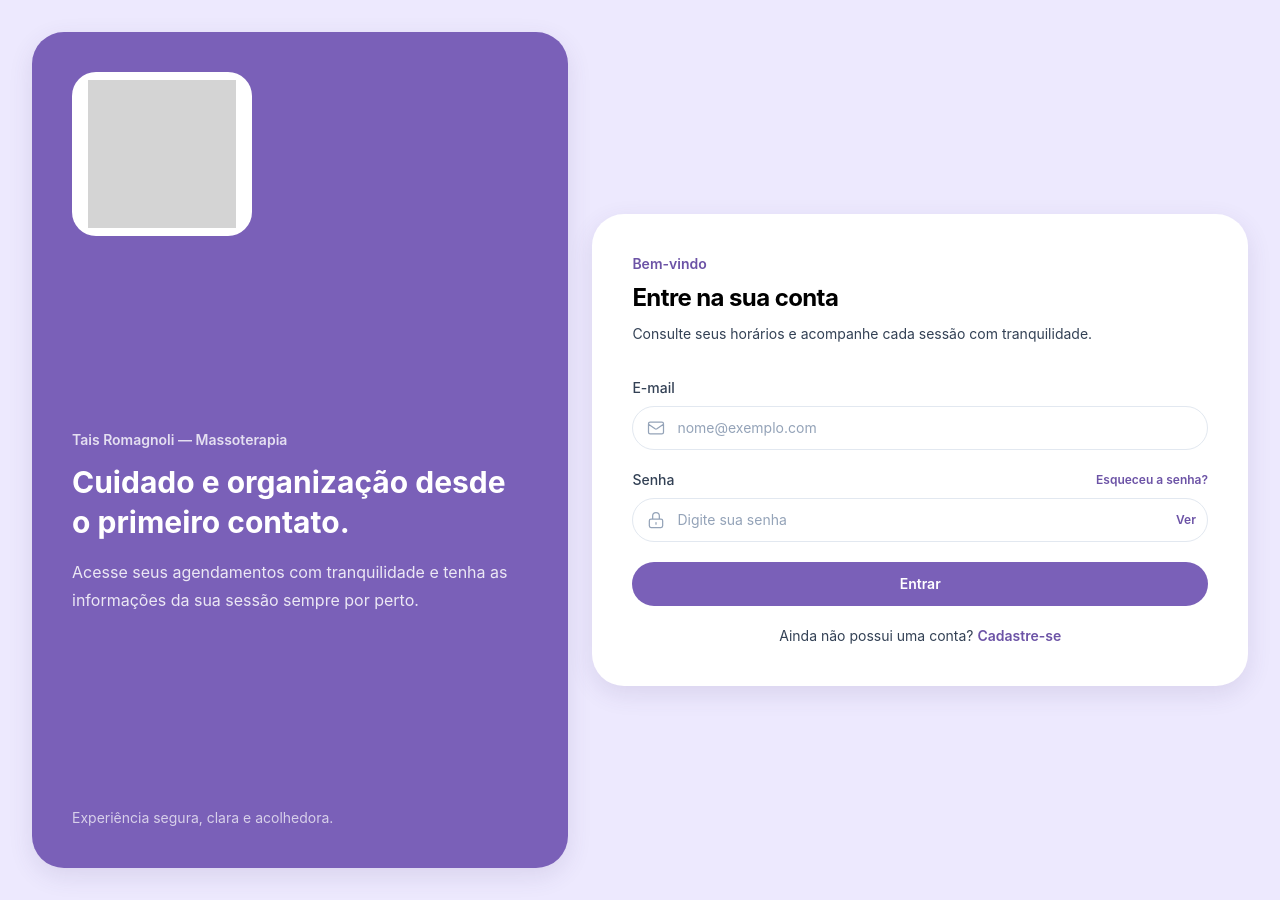
Fluxos de Autenticação, Erros e Sessões Expiradas › Navegação entre fluxos de autenticação › permite alternar entre Login e Cadastro através dos links da tela
The image size is (1280, 900).
Expected: the heading "Entre na sua conta" is shown, [632,283,838,312]
# Clica para ir para o cadastro
Click the link "Cadastre-se": (1019, 636) [977,627,1061,644]
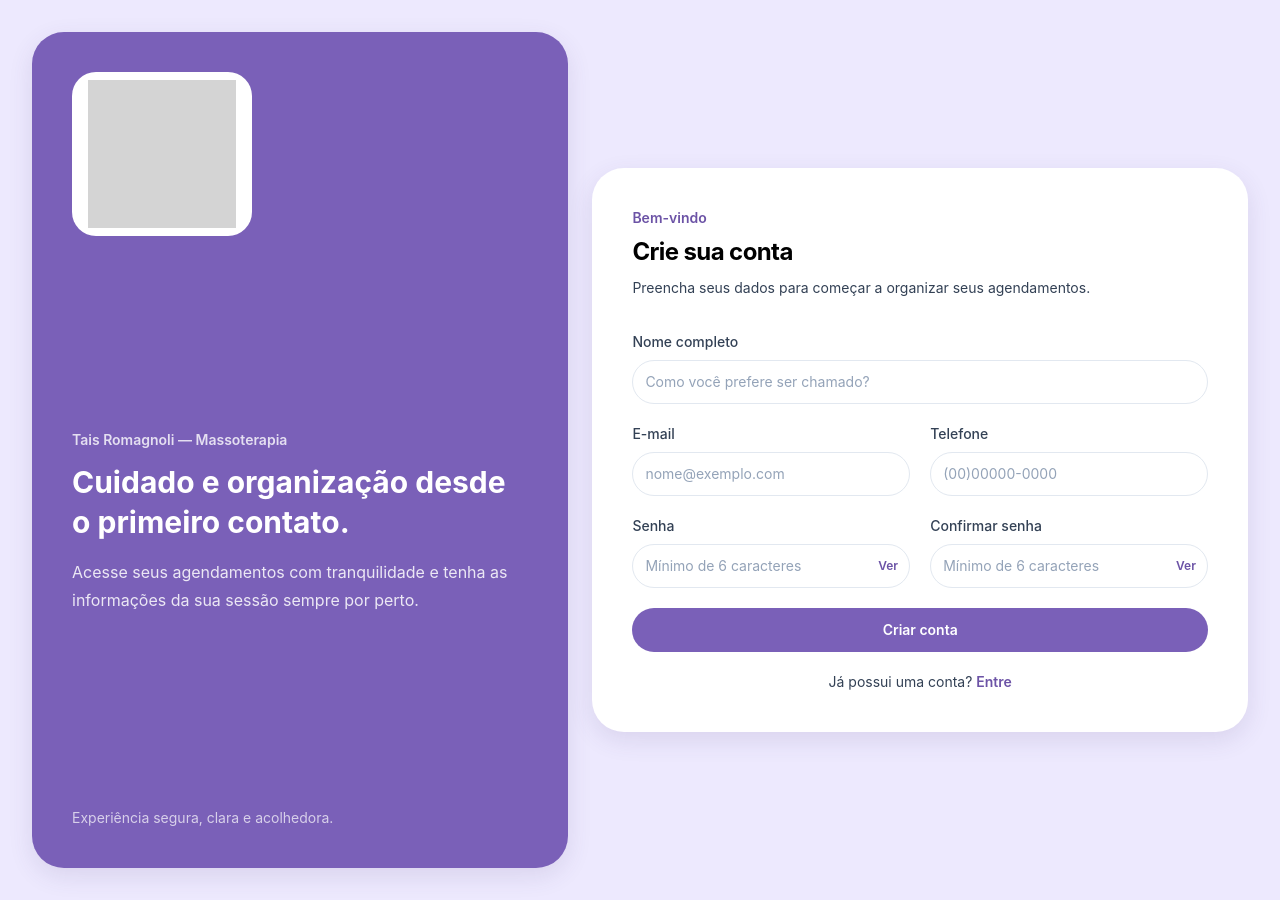
Now the heading "Crie sua conta" is shown, box [632,237,793,266]
# Clica para voltar ao login
Click the link "Entre": (994, 682) [976,673,1012,690]
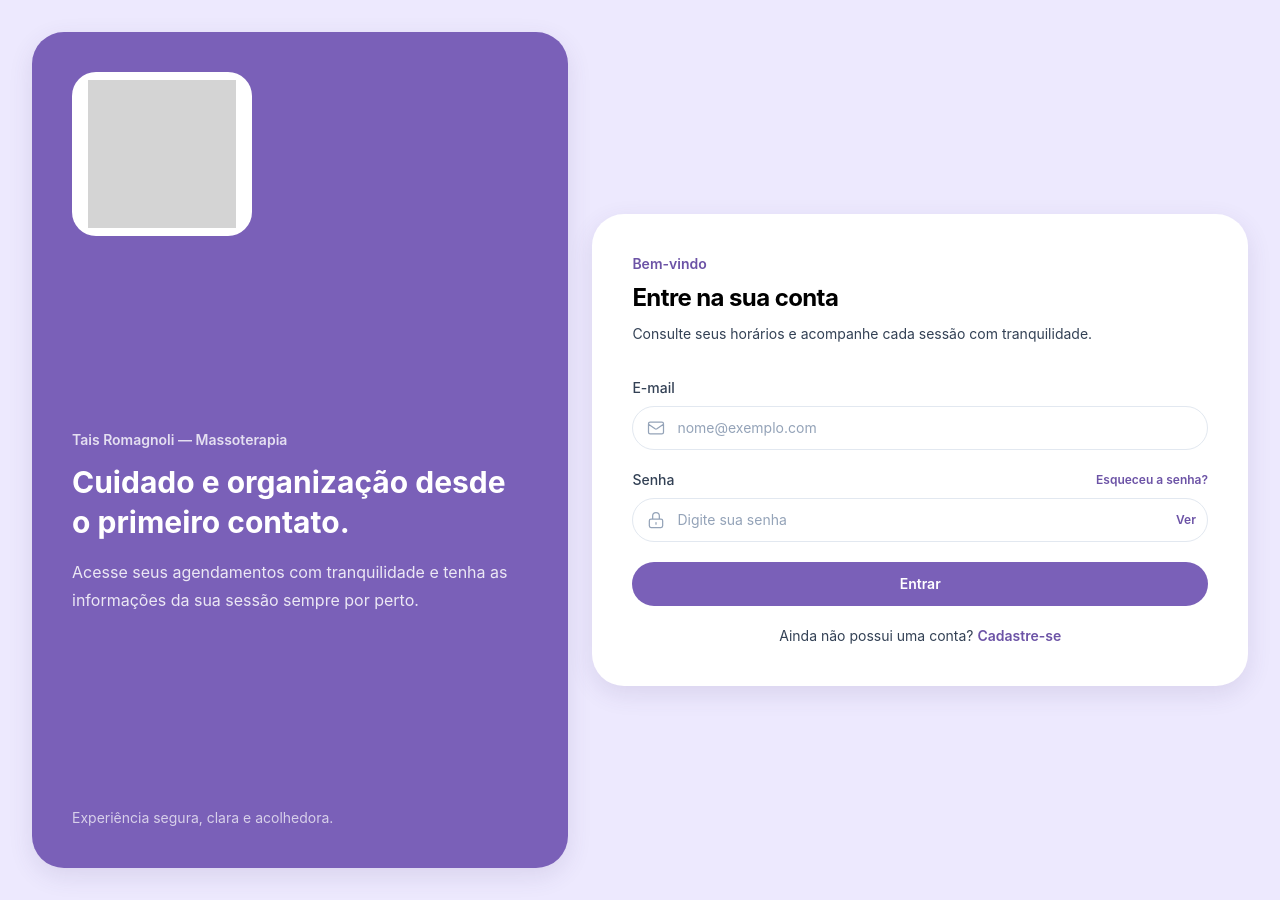
Now the heading "Entre na sua conta" is shown, box [632,283,838,312]
